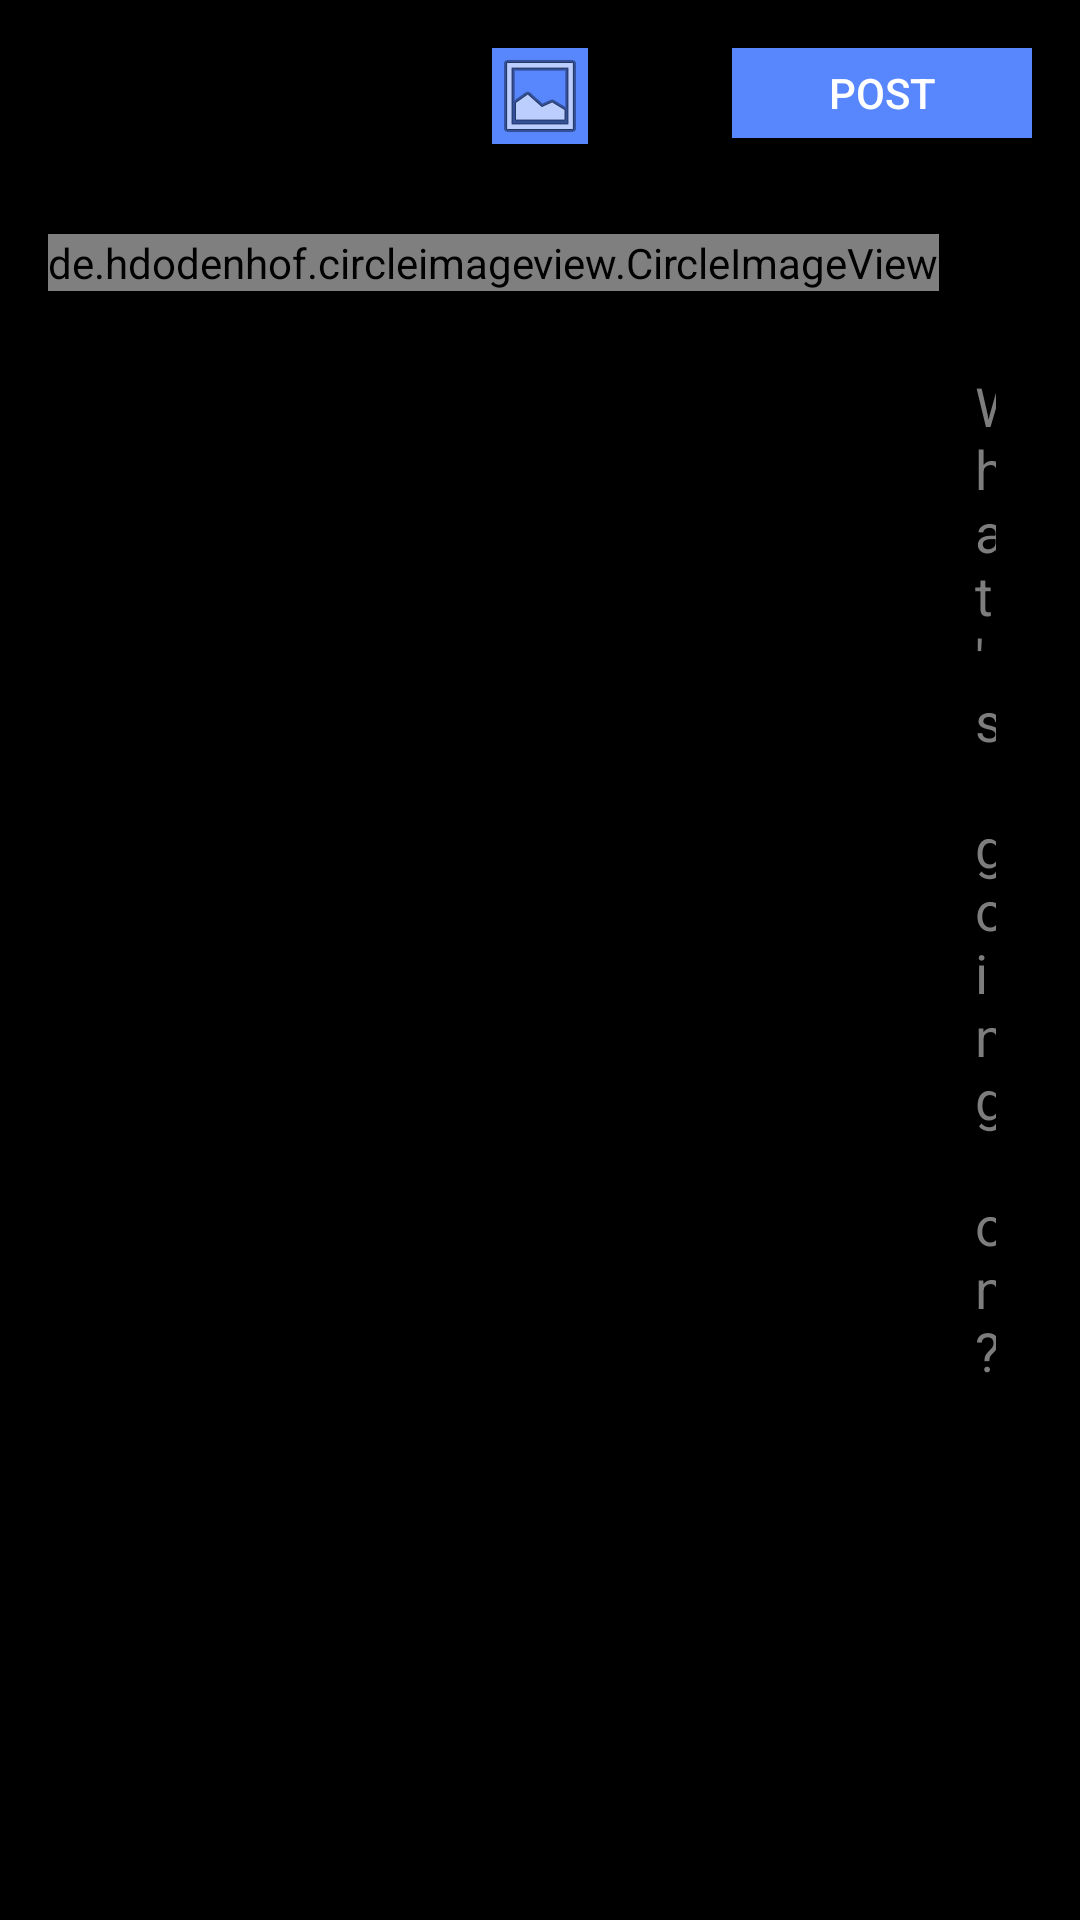

Icon bounding boxes for this 1080 × 1920 phone screenshot, format (x1, y1, x2, y2):
gallery: (492, 48, 588, 144)
